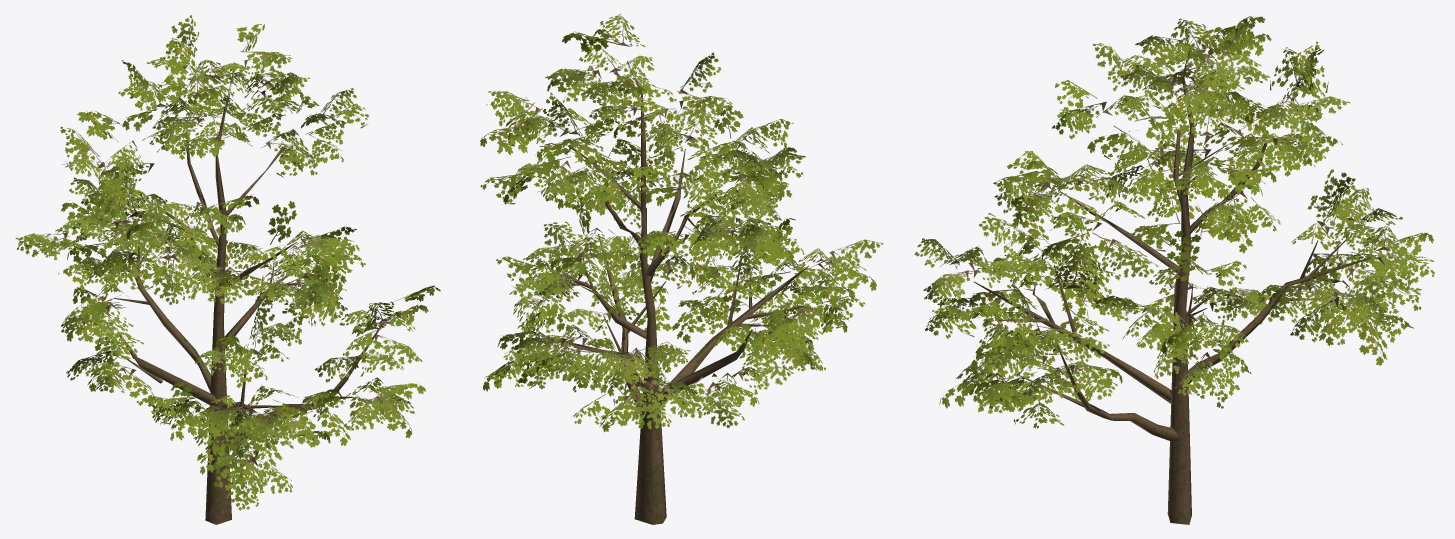
The model's file is SM_Tree_Big_01.fbx.
3 views of the same model, side by side, from view 1: azimuth 30°, elevation 25°; view 2: azimuth 150°, elevation 25°; view 3: azimuth 270°, elevation 25° (orthographic). The views are drawn at different scales.
Visible parts, largest first — view 1: SM_Tree_Big_01_LOD0; view 2: SM_Tree_Big_01_LOD0; view 3: SM_Tree_Big_01_LOD0.
Boxes of the visible parts, x1,y1,x2,y2 form: SM_Tree_Big_01_LOD0: [15, 15, 440, 524]; SM_Tree_Big_01_LOD0: [480, 14, 883, 524]; SM_Tree_Big_01_LOD0: [914, 16, 1434, 524].
Size of what is drawn, in the model's own units: 6.05 by 8.8 by 8.24.
